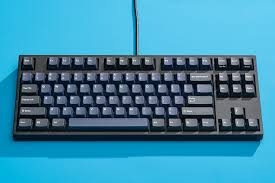keyboard: (12, 47, 266, 148)
